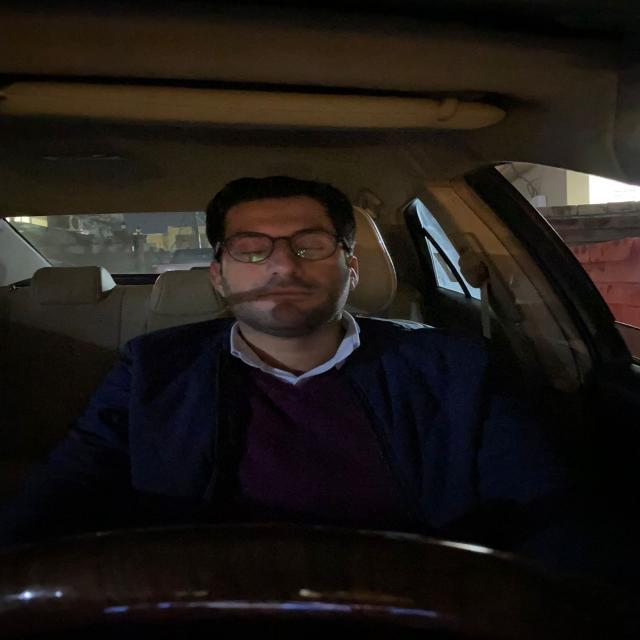drowsy: (202, 167, 362, 336)
